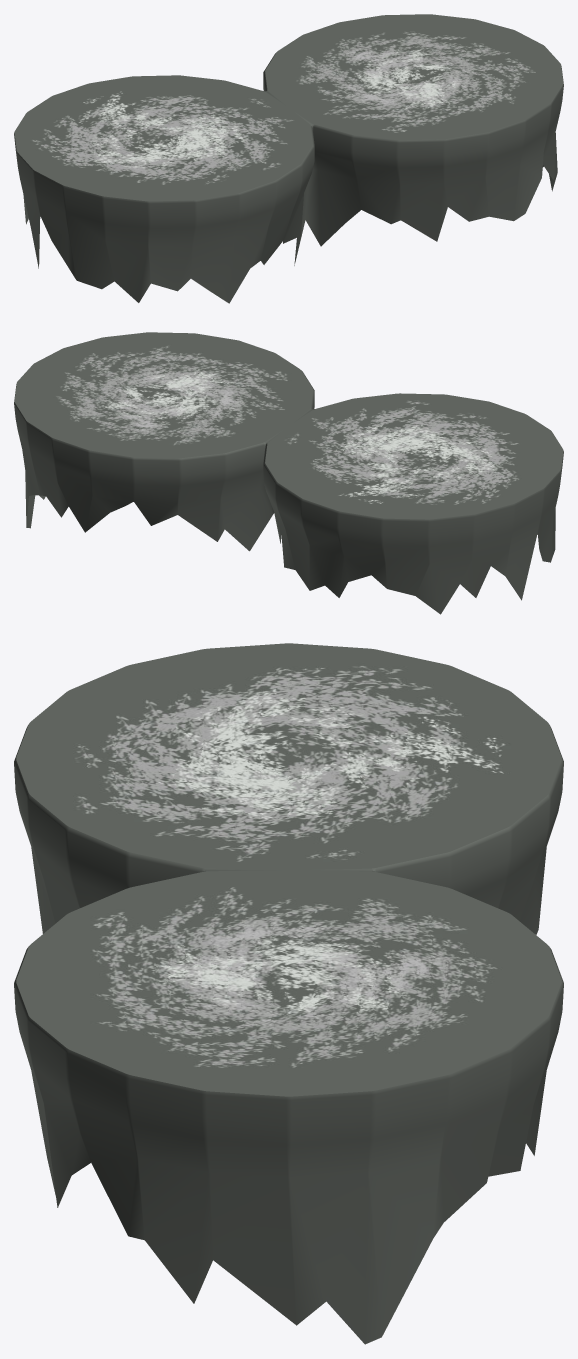
The model's file is stagewastelandprototype1.fbx.
3 renders of one model, top to bottom at view 1: azimuth 30°, elevation 25°; view 2: azimuth 150°, elevation 25°; view 3: azimuth 270°, elevation 25°, orthographic. The views are drawn at different scales.
Parts seen in each view (by area): view 1: polySurface2, polySurface1; view 2: polySurface2, polySurface1; view 3: polySurface2, polySurface1.
Boxes of the visible parts, bbox=[...] form: polySurface2: bbox=[14, 14, 563, 201]; polySurface1: bbox=[14, 52, 563, 303]; polySurface2: bbox=[14, 332, 563, 519]; polySurface1: bbox=[14, 370, 563, 614]; polySurface2: bbox=[16, 643, 561, 1096]; polySurface1: bbox=[14, 725, 563, 1344].
Size of the model in its own units: 1938 by 526 by 993.
Materials: 2 (2 with a texture image).
